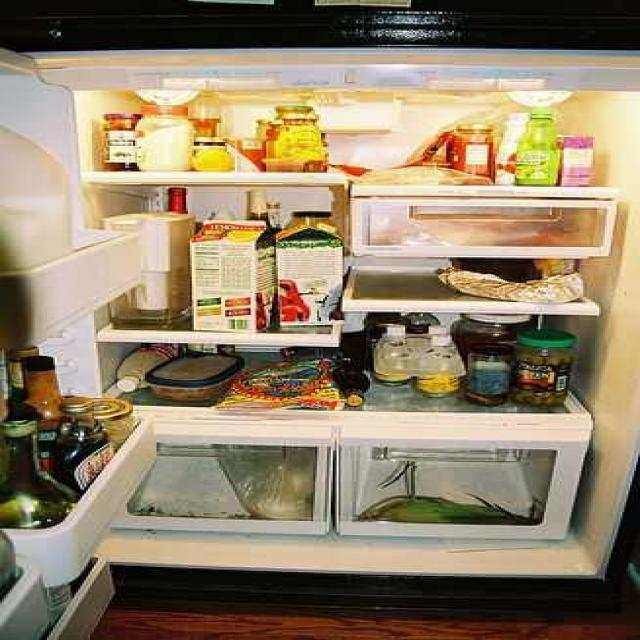refrigerator: (3, 52, 639, 574)
